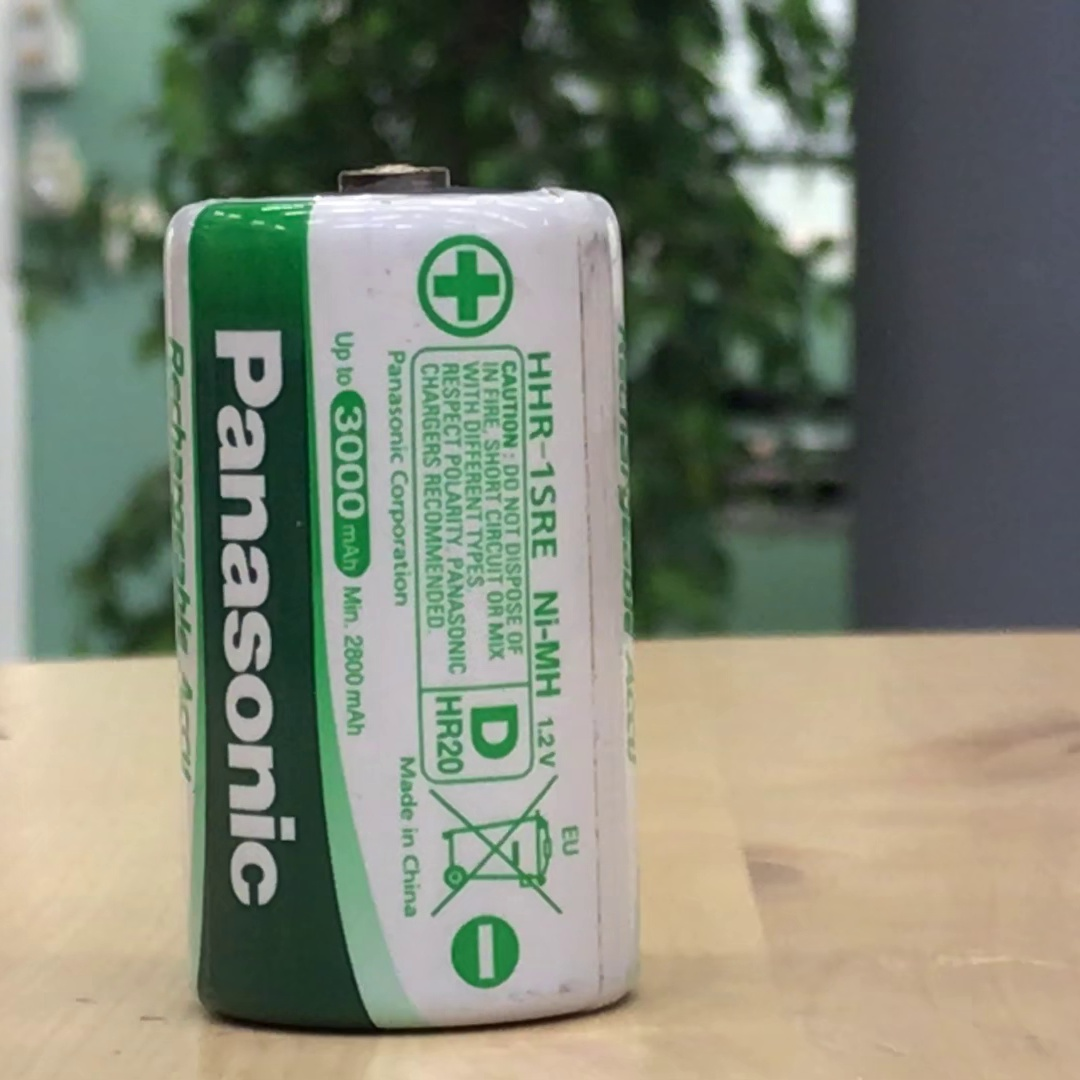keyword: (525, 583, 569, 705)
